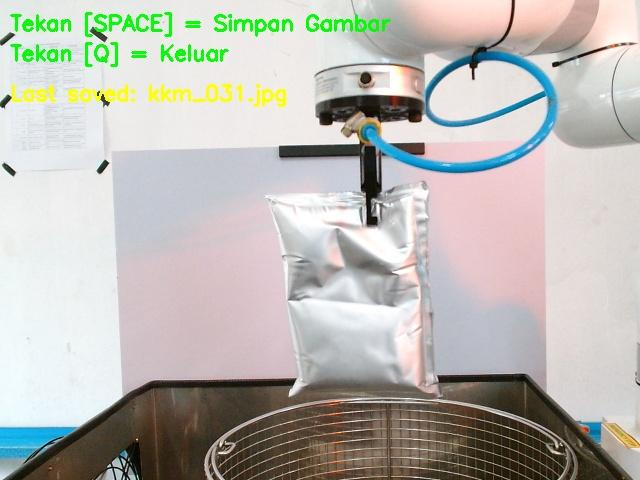retort-pouch: (266, 183, 443, 396)
